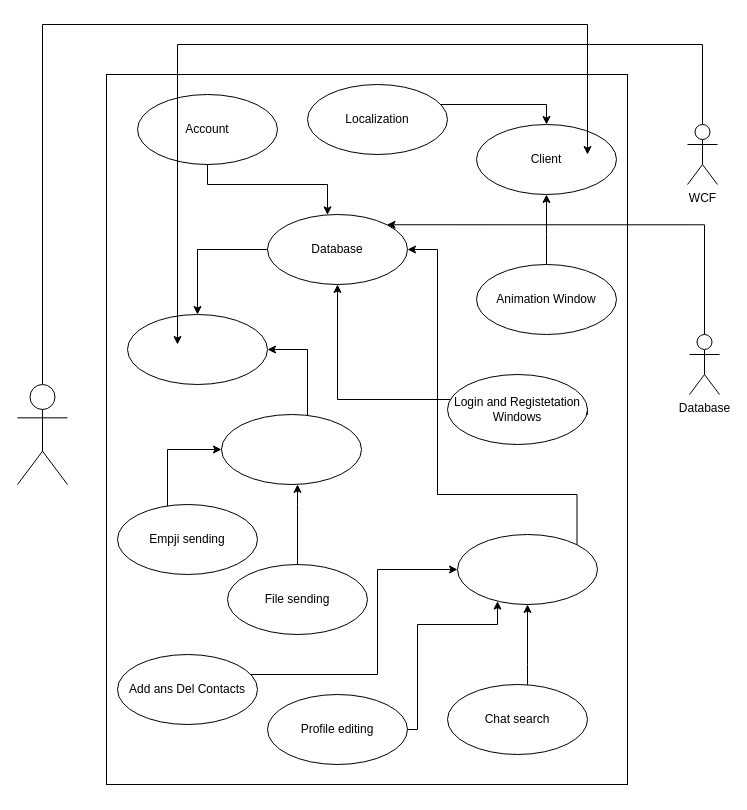
The diagram is 747 pixels wide and 810 high, and some of its shapes have lost their labels. Here are the shapes that lost their labels. From the top down, the box of each, then its label:
(126, 314, 268, 384): Server interection
(16, 384, 68, 484): User
(220, 414, 362, 484): Message sending
(456, 534, 598, 604): DLL
